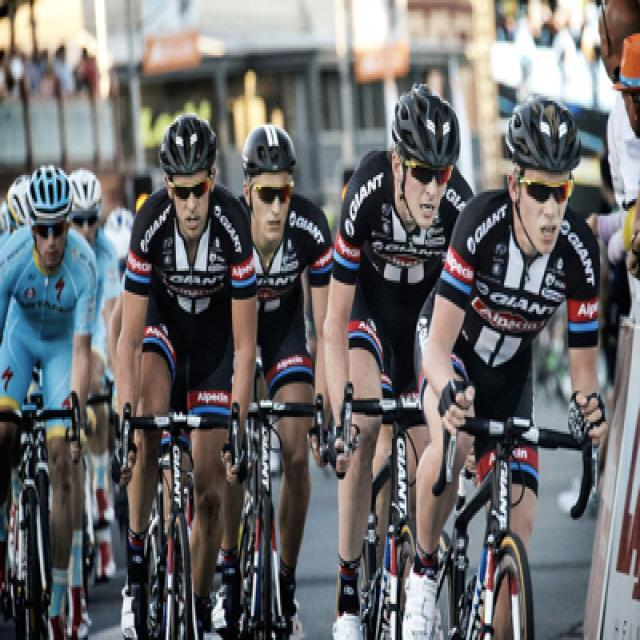Helmet: (494, 77, 588, 259), (382, 62, 469, 246), (155, 98, 226, 247), (235, 112, 302, 252), (18, 156, 78, 271)
